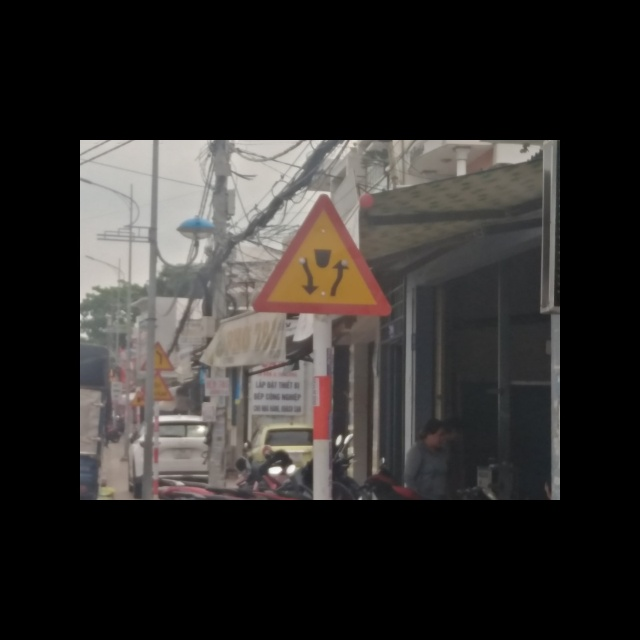Đường đôi: (248, 193, 391, 319)
